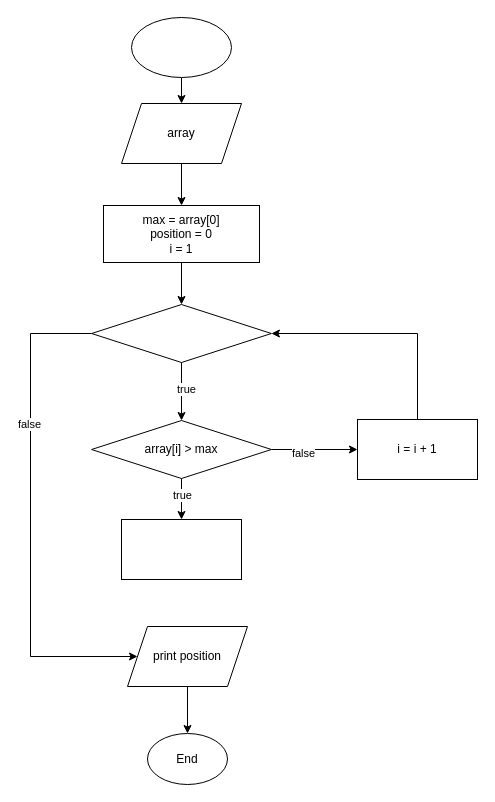
Image size: 495x802. Some labels were removed from this diagram. Here are the shapes that lost their labels. From the top down, the centre of each, then its label:
At (x=181, y=47): "Start".
At (x=181, y=333): "i < array.length".
At (x=181, y=549): "max = array[i] position = i".
